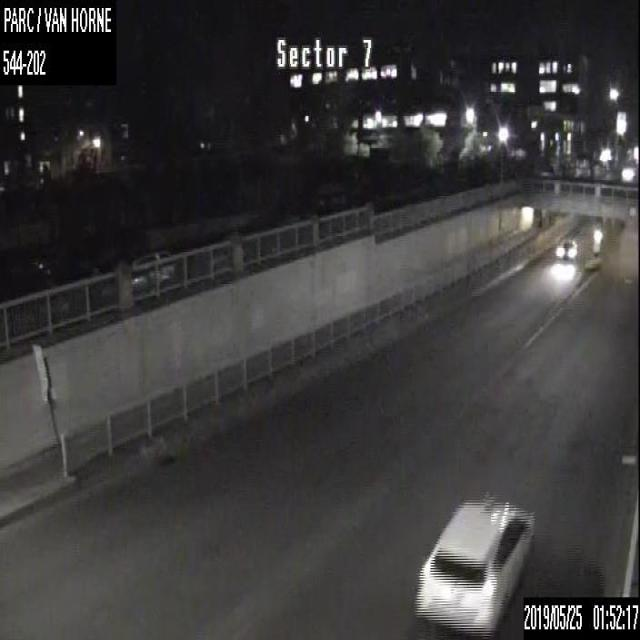vehicle: (412, 496, 537, 639), (98, 248, 174, 298), (556, 237, 578, 260)
